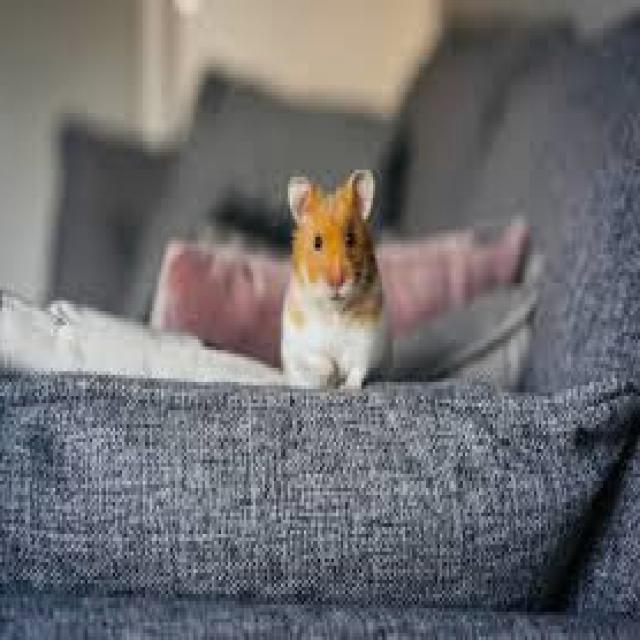hamster: (283, 170, 387, 385)
